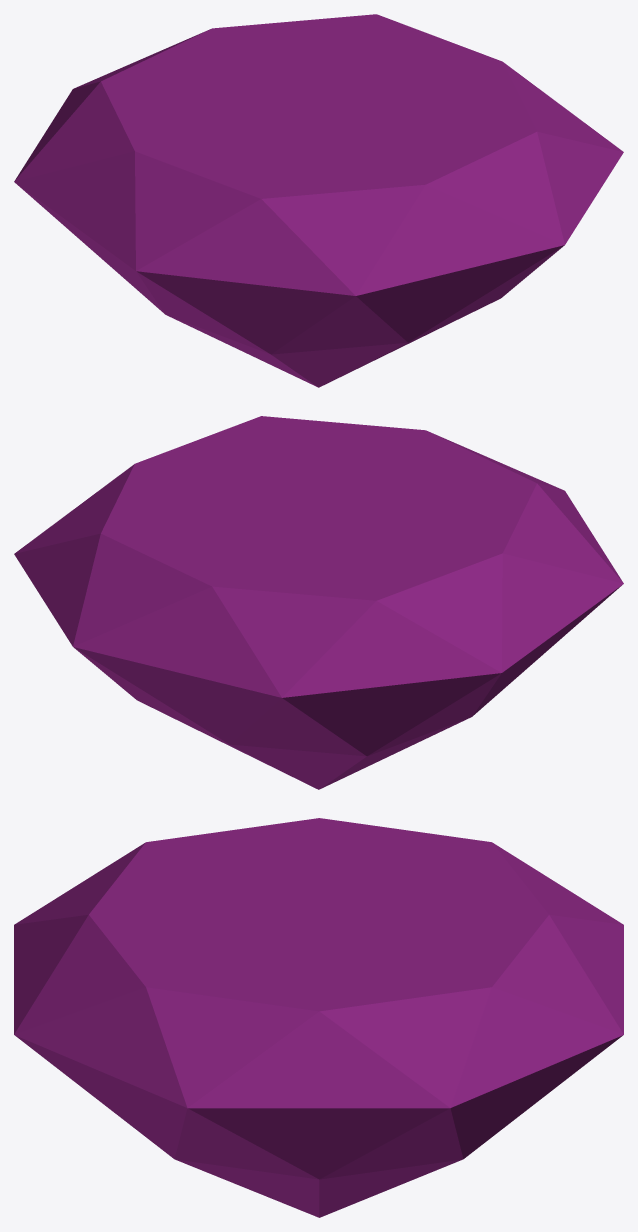
Rendered from Gem012.fbx.
3 views of the same model, one above another, from view 1: azimuth 30°, elevation 25°; view 2: azimuth 150°, elevation 25°; view 3: azimuth 270°, elevation 25° (orthographic). The views are drawn at different scales.
Parts seen in each view (by area): view 1: Gem012; view 2: Gem012; view 3: Gem012.
Boxes of the visible parts, x1,y1,x2,y2 form: Gem012: (14,14,623,387); Gem012: (14,416,623,789); Gem012: (14,818,623,1217).
Bounding box in the file's own units: 248 × 137 × 249.
